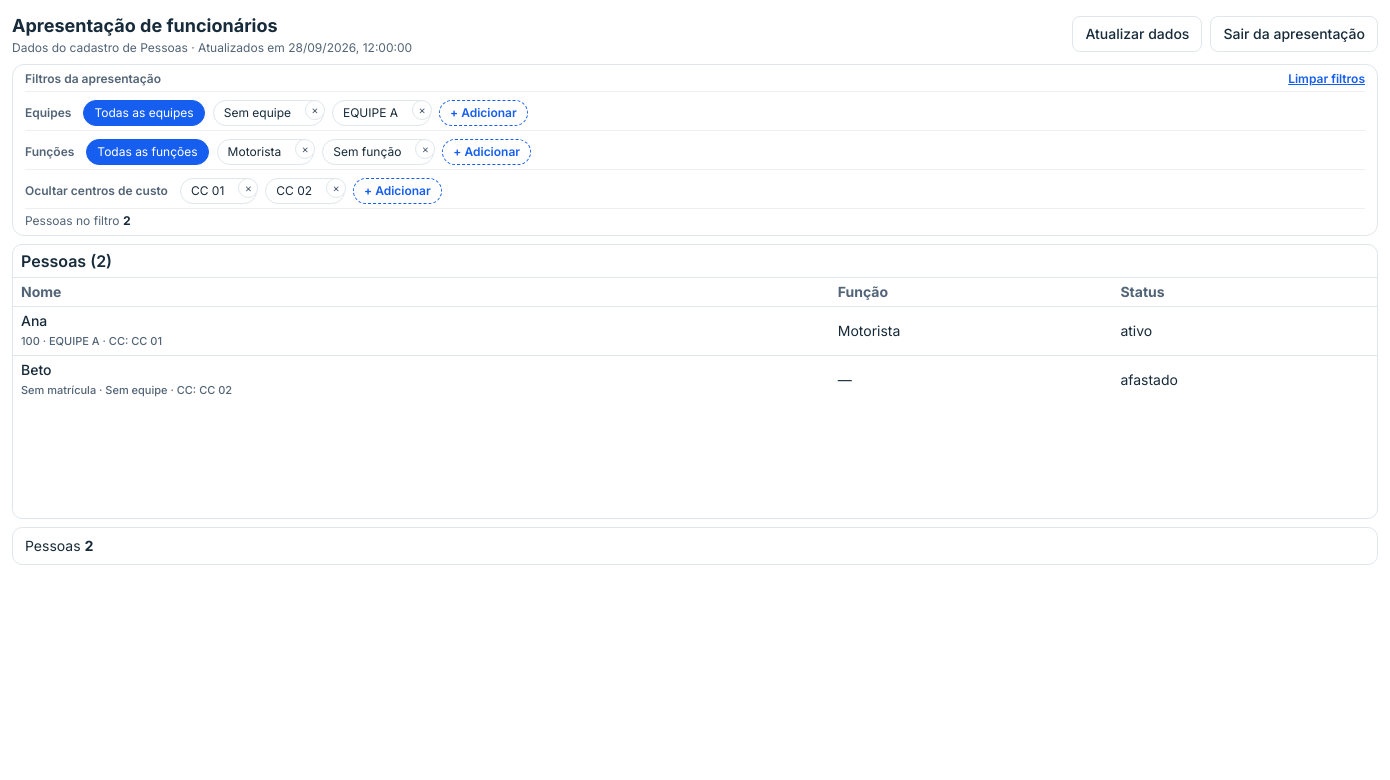
Scenario: tela de reunião › identifies and hides a cost center in employee presentation
The image size is (1390, 780).
Expected: the text "100 · EQUIPE A · CC: CC 01" is shown, [21,334,162,348]
What coordinates should you click on to do the following:
click the button with aria-label "Ocultar centro de custo CC 01"
I would click on:
 (209, 191)
Its box is [181,179,236,203].
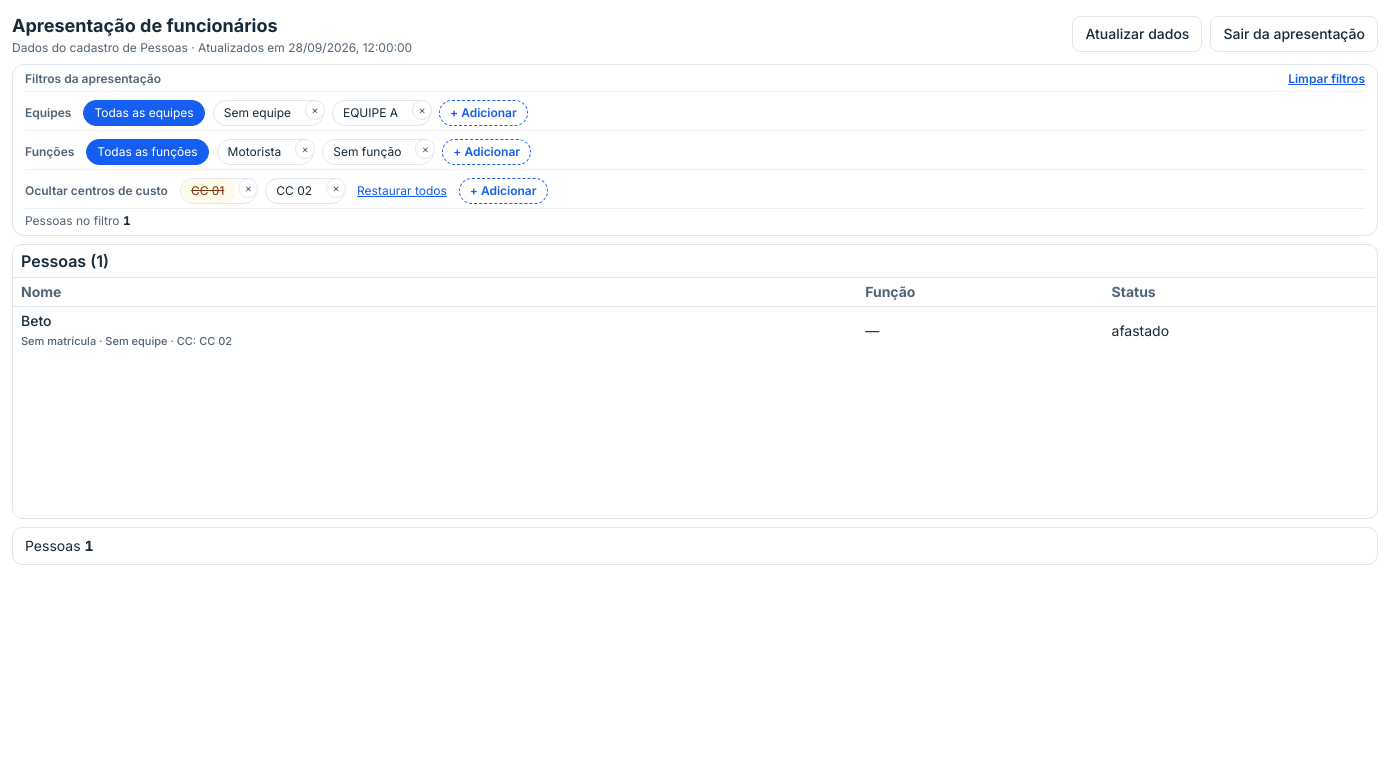
Expected: the text "Beto" is shown, [21,312,52,329]
Expected: the text "Ana" is gone
